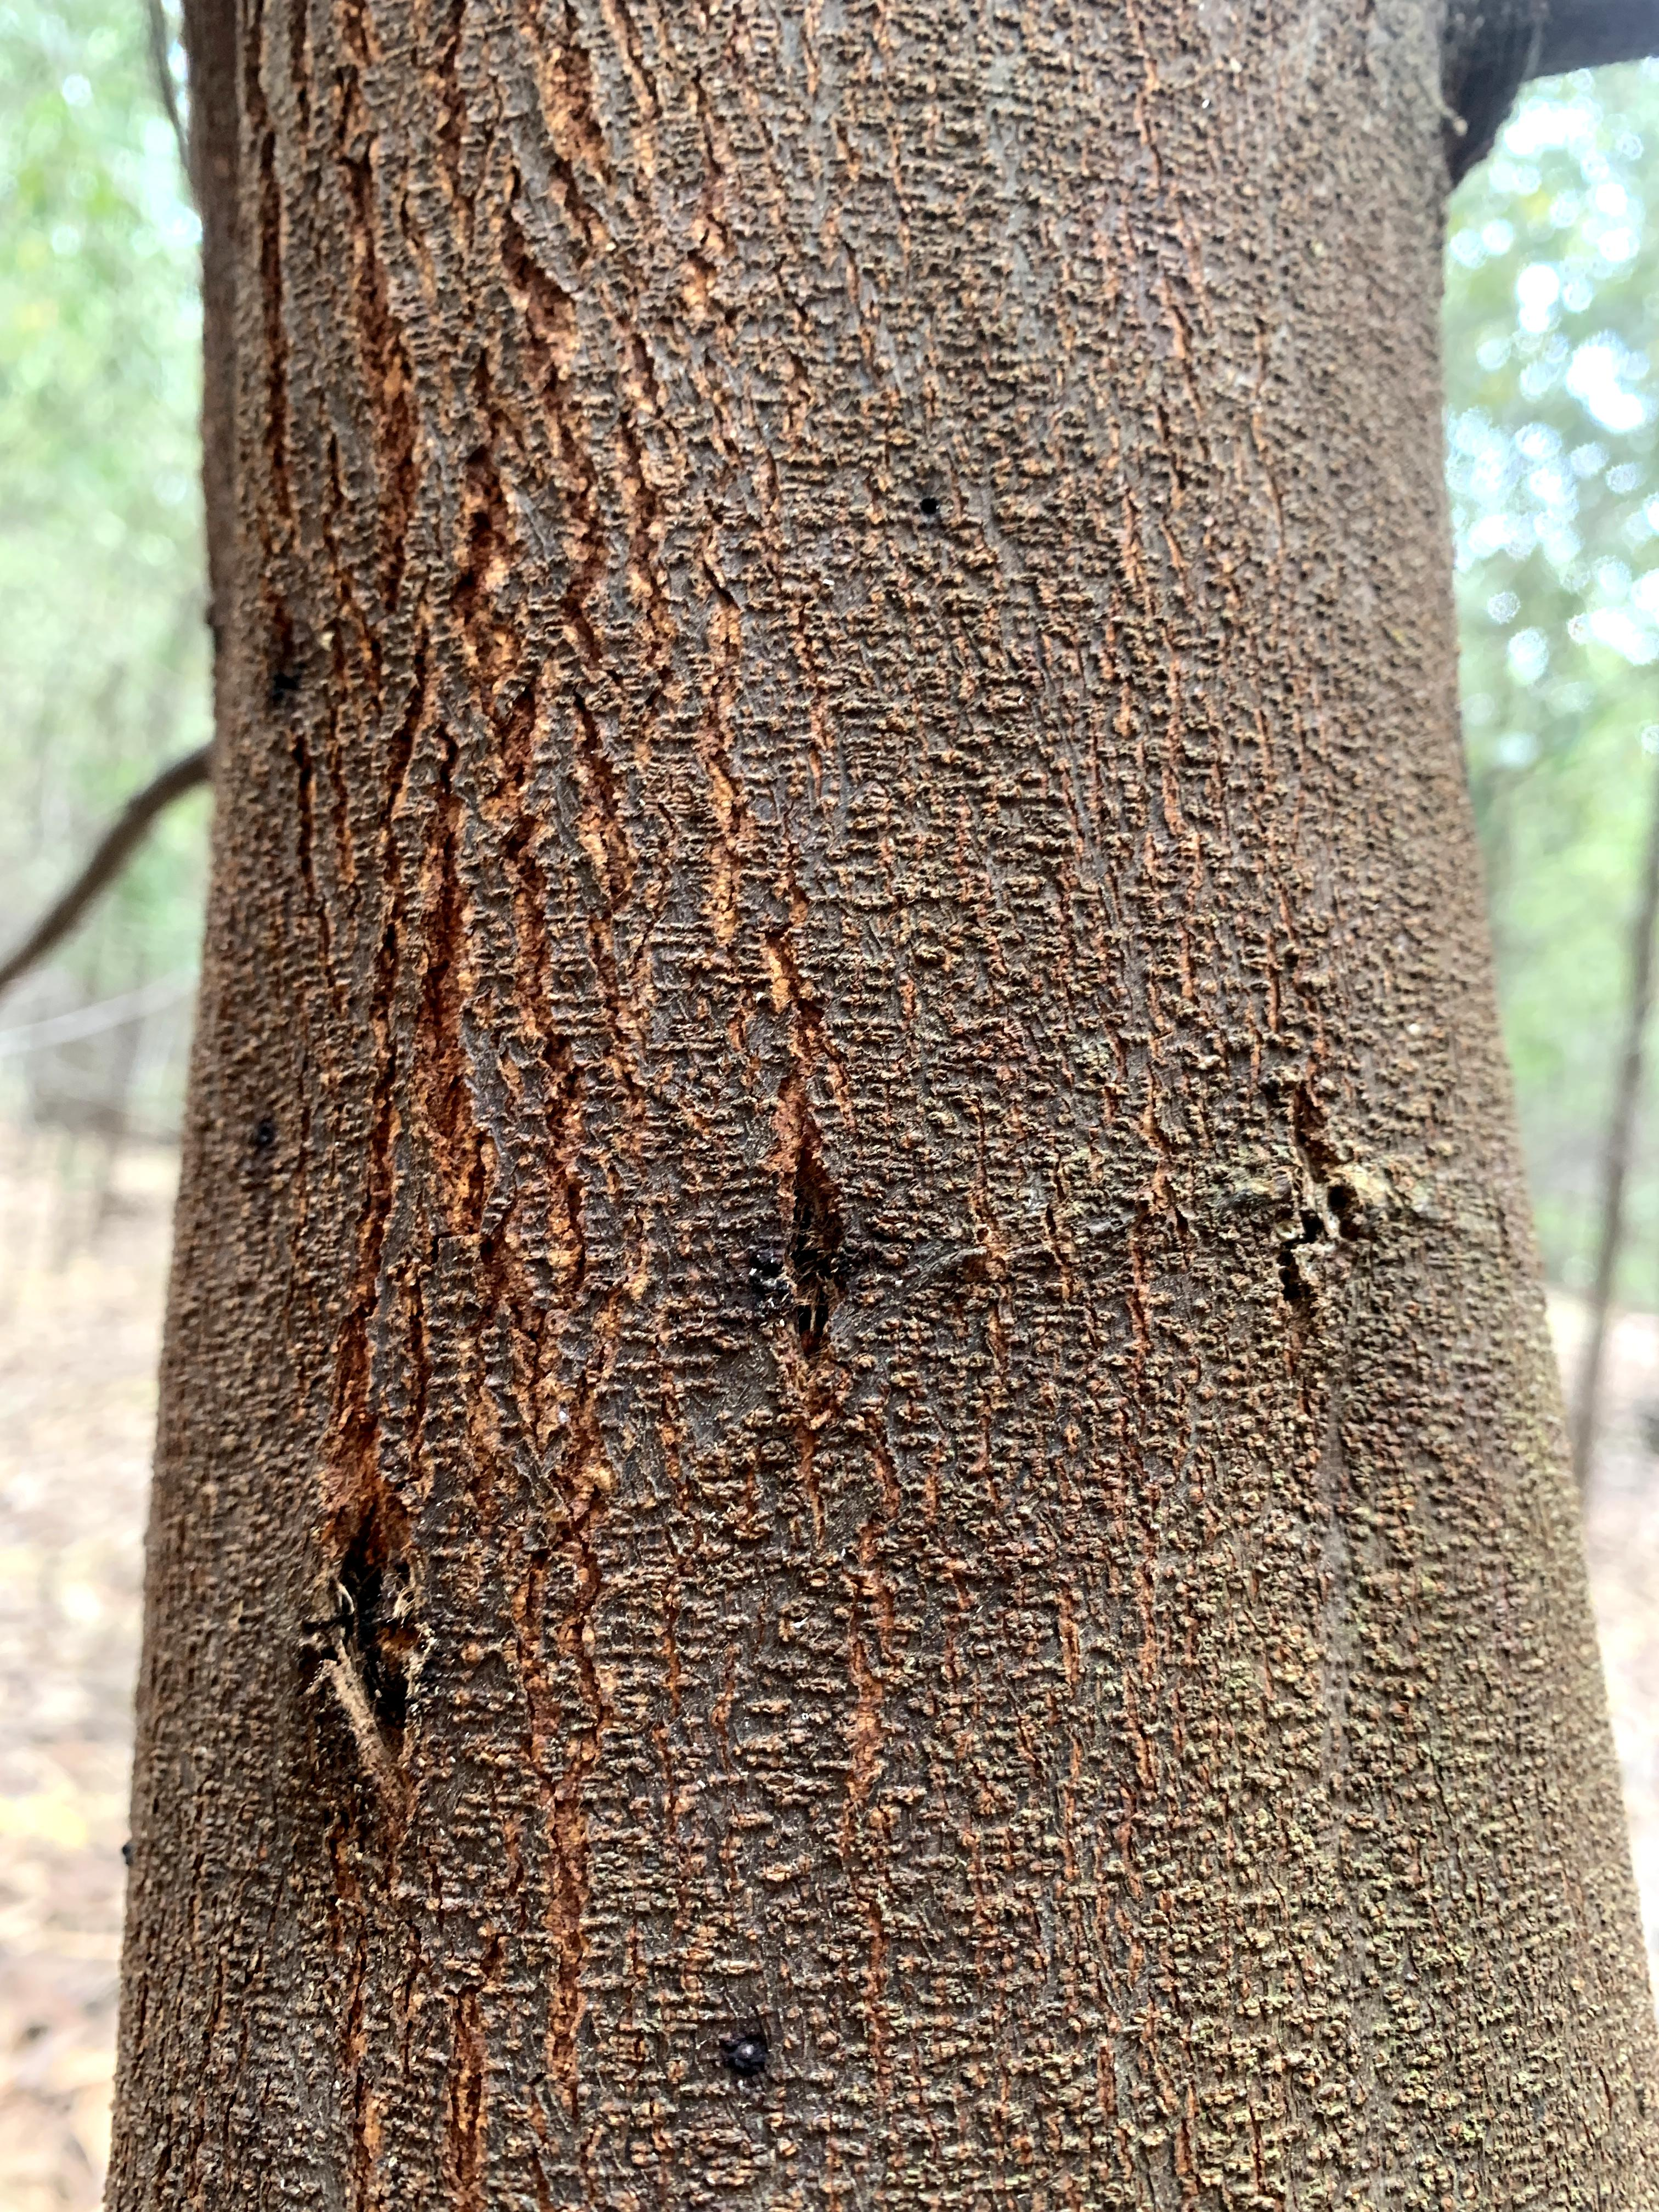Stem Borer: (659, 1021, 995, 1421), (253, 1406, 500, 1895), (237, 533, 359, 798)
